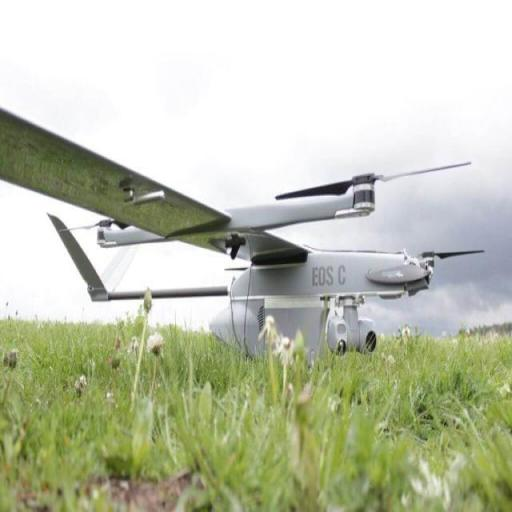uav: (0, 96, 460, 366)
